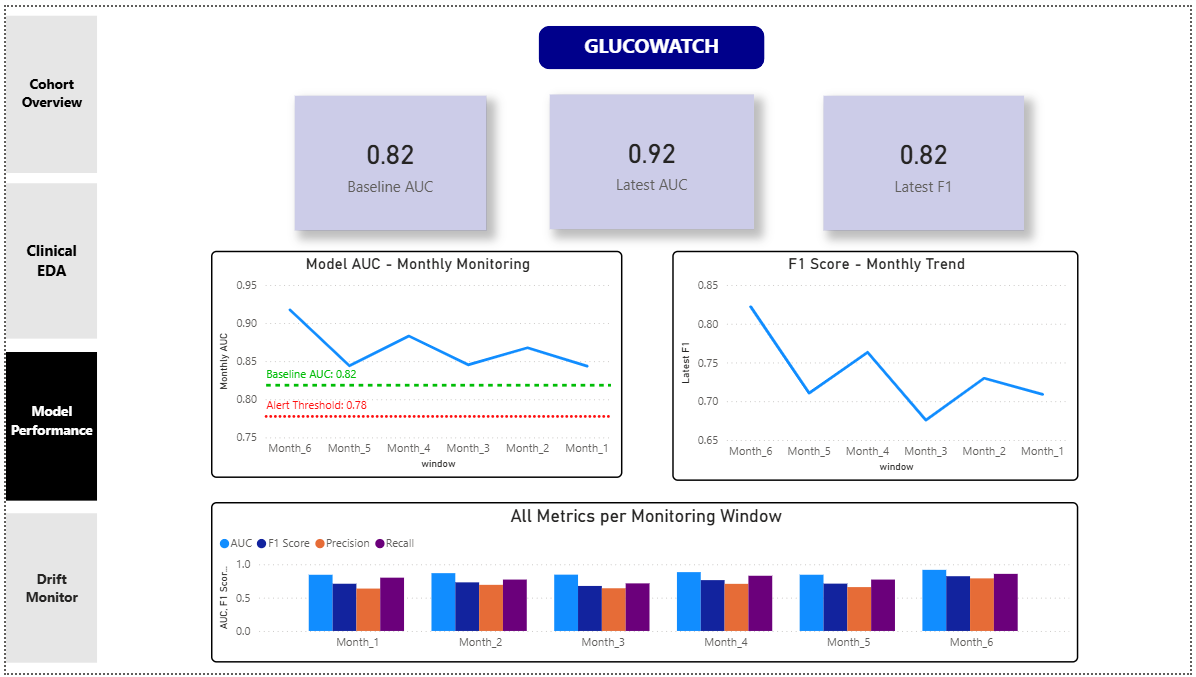

The page's visual inventory and layout, read from the dashboard file:
{"tool":"powerbi","page":{"name":"Model Performance","canvas":[1280,720],"ordinal":2},"visuals":[{"type":"group","id":"g1","title":"Group 6","box":[0,9.3,98.7,699.1],"z":0},{"type":"group","id":"g2","title":"Group 7","box":[575,20.8,244.4,47.2],"z":1000},{"type":"shape","box":[575,20.8,244.4,47.2],"z":1000,"group":"g2"},{"type":"textbox","box":[610.7,22.2,174.4,45.8],"z":2000,"group":"g2"},{"type":"card","fields":{"Values":["glucowatch_cleaned.Latest AUC"]},"box":[587.5,94.7,220.8,145.8],"z":2000},{"type":"shape","box":[0,9.3,98.7,170],"z":3000,"group":"g6"},{"type":"card","fields":{"Values":["glucowatch_cleaned.Baseline AUC"]},"box":[312.5,96.1,206.9,145.8],"z":3000},{"type":"card","fields":{"Values":["monitoring_log.Latest F1"]},"box":[883.3,96.1,216.7,145.8],"z":4000},{"type":"lineChart","title":"Model AUC -  Monthly Monitoring","fields":{"Category":["monitoring_log.window"],"Y":["monitoring_log.Monthly AUC"]},"box":[221.9,263.9,444.4,245.8],"z":4001},{"type":"lineChart","title":"F1 Score - Monthly Trend","fields":{"Category":["monitoring_log.window"],"Y":["monitoring_log.Latest F1"]},"box":[720.6,263.9,438.9,248.6],"z":4002},{"type":"clusteredColumnChart","title":"All Metrics per Monitoring Window","fields":{"Category":["monitoring_log.window"],"Y":["Avg(monitoring_log.auc)","Avg(monitoring_log.f1)","Sum(monitoring_log.precision)","Sum(monitoring_log.recall)"]},"box":[222.2,534.7,937.5,173.6],"z":4003},{"type":"shape","box":[0,190.6,98.7,168.4],"z":5000,"group":"g5"},{"type":"shape","box":[0,373.3,98.7,160.7],"z":7000,"group":"g4"},{"type":"shape","box":[0,546.6,98.7,161.7],"z":8000,"group":"g3"},{"type":"group","id":"g3","title":"Group 1","box":[0,546.6,98.7,161.7],"z":9000,"group":"g1"},{"type":"group","id":"g4","title":"Group 3","box":[0,373.3,98.7,160.7],"z":10000,"group":"g1"},{"type":"group","id":"g5","title":"Group 4","box":[0,190.6,98.7,168.4],"z":11000,"group":"g1"},{"type":"group","id":"g6","title":"Group 5","box":[0,9.3,98.7,170],"z":12000,"group":"g1"},{"type":"textbox","box":[6.7,67.5,85.3,50.7],"z":13000,"group":"g6"},{"type":"textbox","box":[0,248,98.6,61.1],"z":14000,"group":"g5"},{"type":"textbox","box":[0,422.2,98.7,57.3],"z":15000,"group":"g4"},{"type":"textbox","box":[0,601.7,98.7,52],"z":16000,"group":"g3"}]}

Visuals, with their boxes in screenshot pixels (x1, y1, x2, y2), scaled from the page's 1280x720 canvas onto the 1196x677 screenshot:
"Group 6" group: <region>0, 9, 92, 666</region>
"Group 7" group: <region>537, 20, 766, 64</region>
shape: <region>537, 20, 766, 64</region>
textbox: <region>571, 21, 734, 64</region>
card - glucowatch_cleaned.Latest AUC: <region>549, 89, 755, 226</region>
shape: <region>0, 9, 92, 169</region>
card - glucowatch_cleaned.Baseline AUC: <region>292, 90, 485, 227</region>
card - monitoring_log.Latest F1: <region>825, 90, 1028, 227</region>
"Model AUC -  Monthly Monitoring" lineChart: <region>207, 248, 623, 479</region>
"F1 Score - Monthly Trend" lineChart: <region>673, 248, 1083, 482</region>
"All Metrics per Monitoring Window" clusteredColumnChart: <region>208, 503, 1084, 666</region>
shape: <region>0, 179, 92, 338</region>
shape: <region>0, 351, 92, 502</region>
shape: <region>0, 514, 92, 666</region>
"Group 1" group: <region>0, 514, 92, 666</region>
"Group 3" group: <region>0, 351, 92, 502</region>
"Group 4" group: <region>0, 179, 92, 338</region>
"Group 5" group: <region>0, 9, 92, 169</region>
textbox: <region>6, 63, 86, 111</region>
textbox: <region>0, 233, 92, 291</region>
textbox: <region>0, 397, 92, 451</region>
textbox: <region>0, 566, 92, 615</region>
